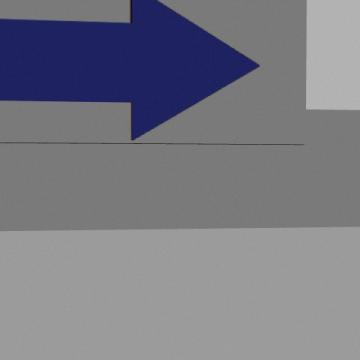blue_right: (0, 0, 258, 140)
